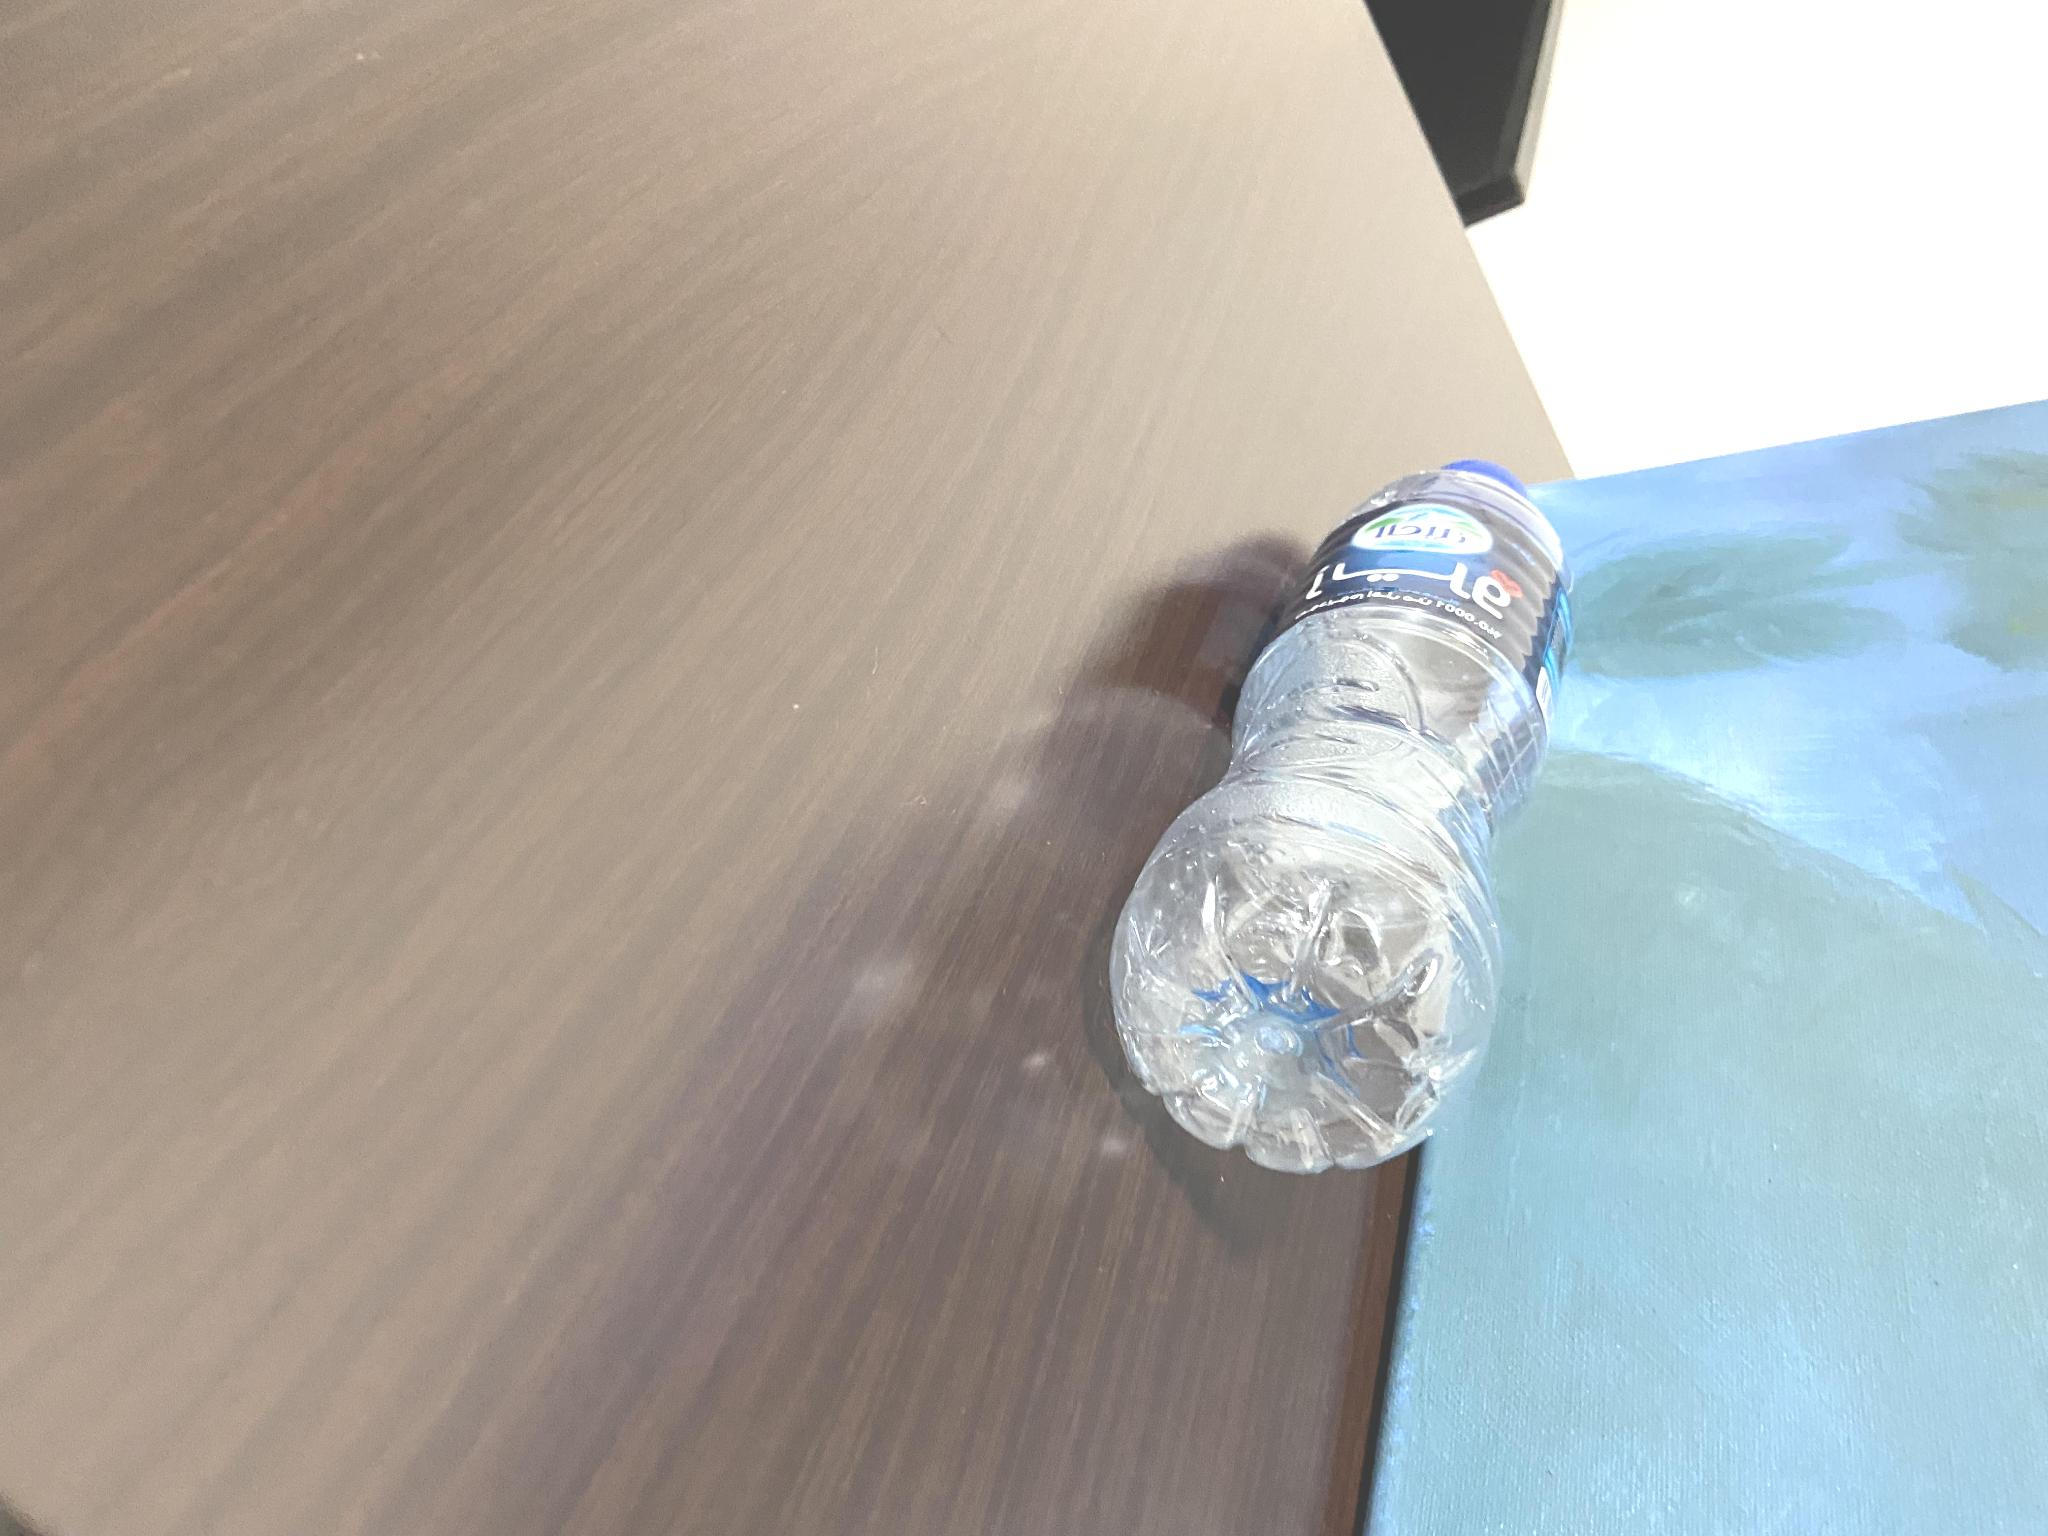bottle: (598, 350, 1572, 715)
